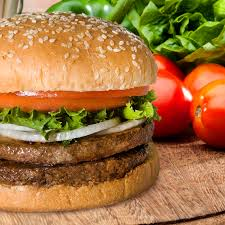hamburger: (1, 10, 161, 216)
